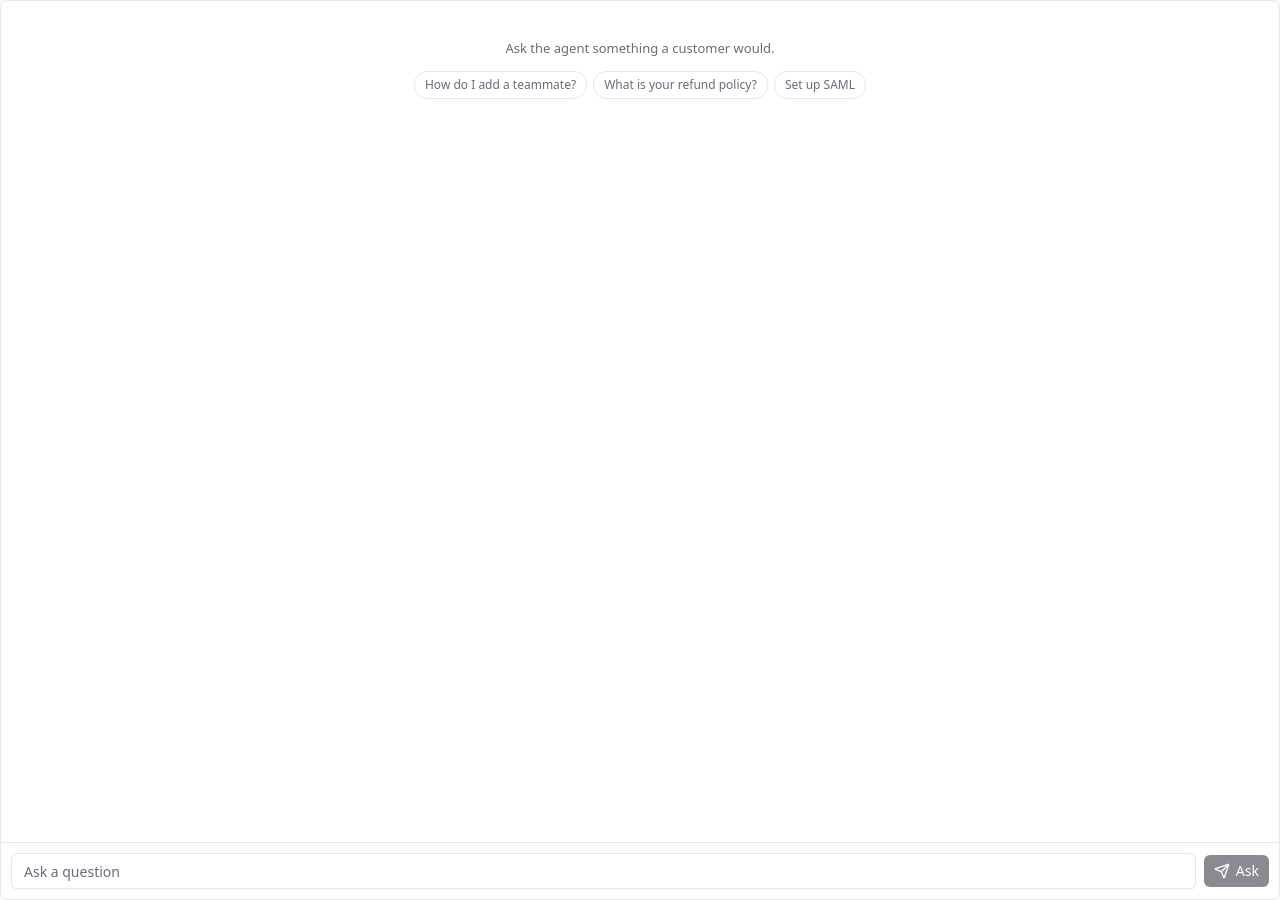
Test: the agent test console › cites what an answer came from
The width and height of the screenshot is (1280, 900).
Type "How do I add a teammate?" into the field named "ask the agent". click: (603, 871)
box: top-left (11, 853), bottom-right (1196, 889)
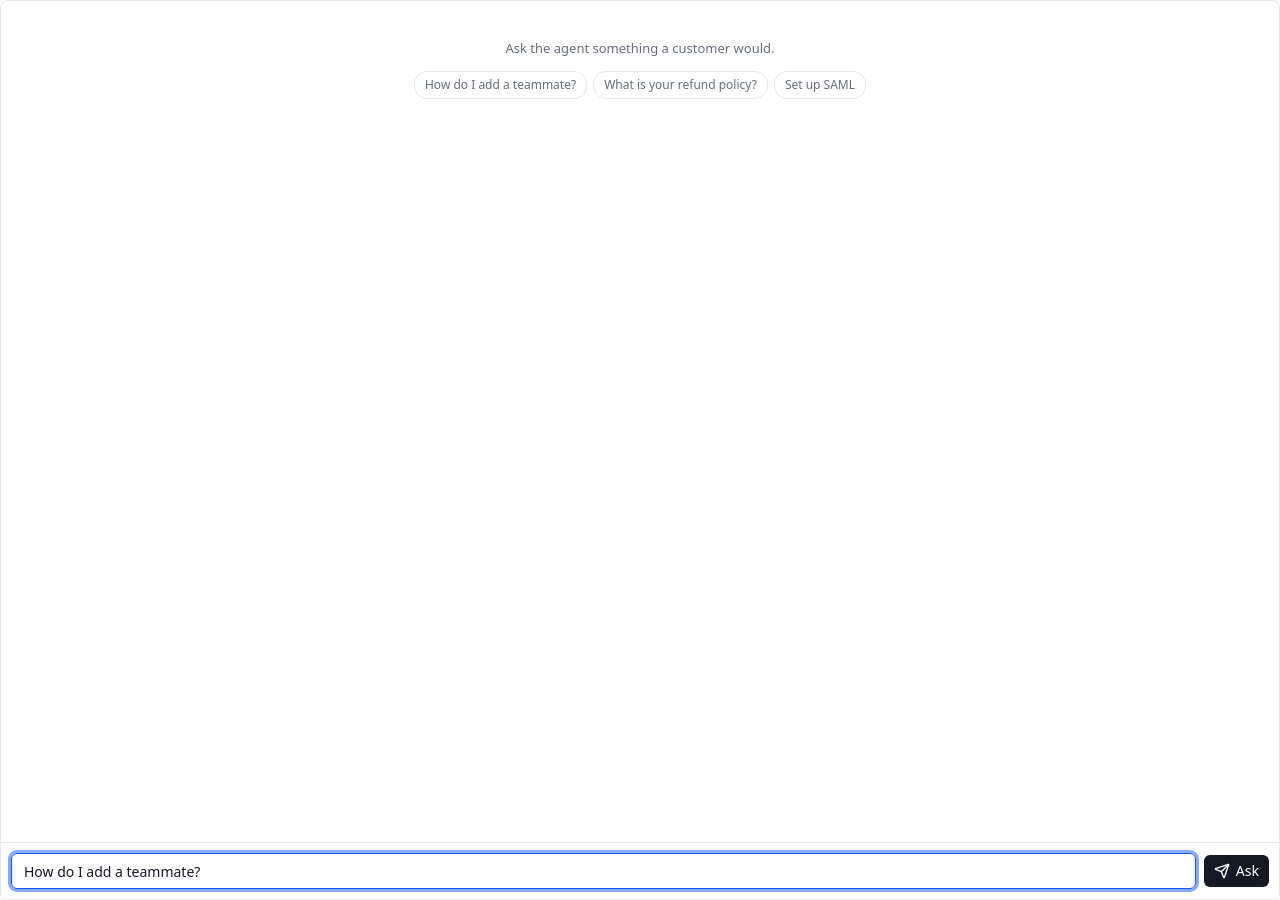
Click the button "Ask". click: (1236, 871)
box: top-left (1204, 855), bottom-right (1269, 887)
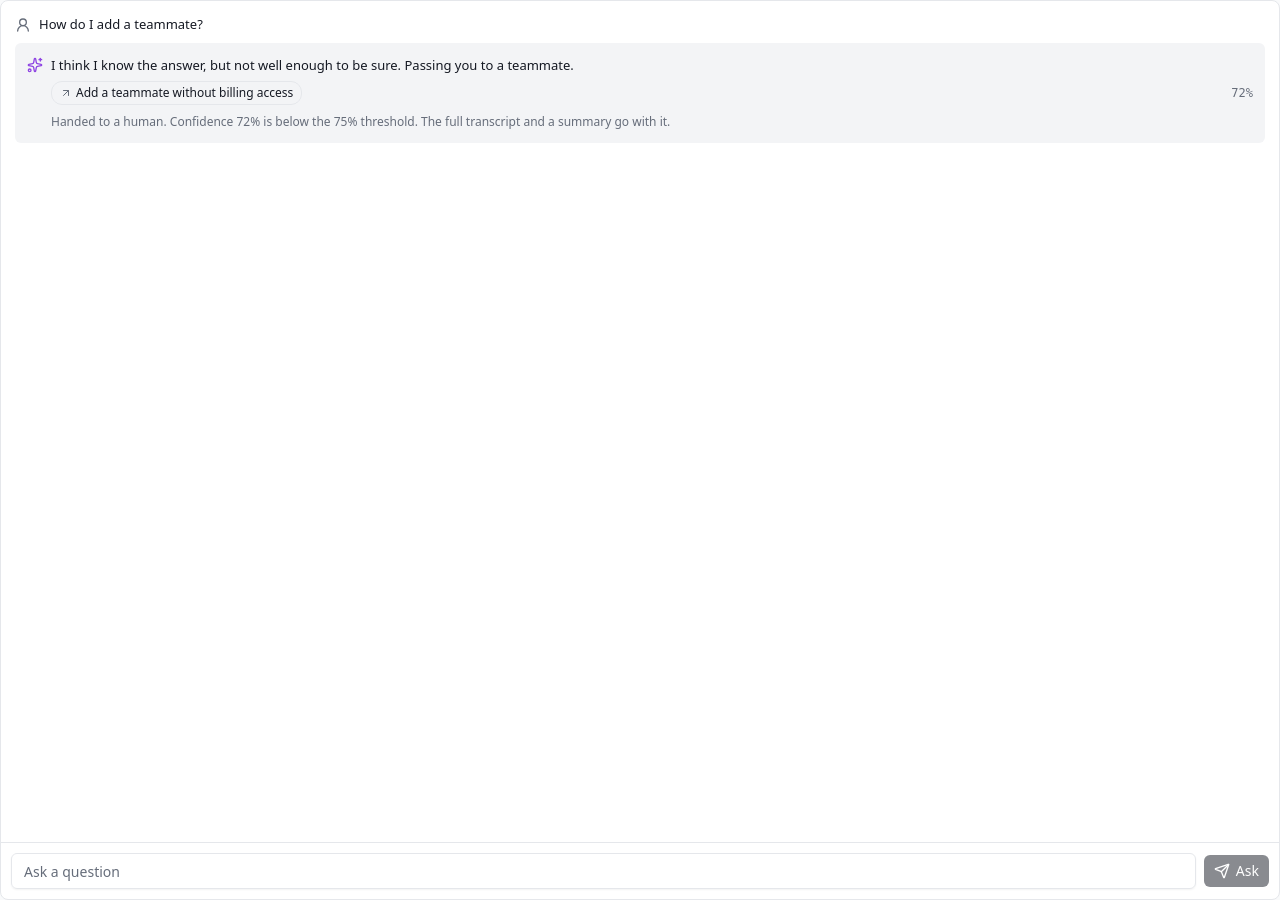
Expected: the text "Add a teammate without billing access" is shown, top-left (51, 81), bottom-right (302, 105)
Expected: the text "72%" is shown, top-left (1231, 84), bottom-right (1253, 102)
